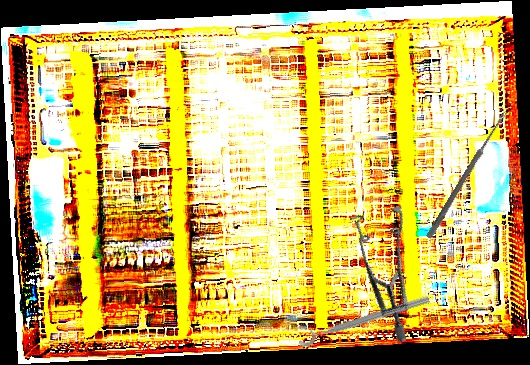Fixation Ring: (293, 284, 432, 349)
Speculum: (314, 189, 453, 345)
Surgical Spoon: (425, 109, 509, 240)
